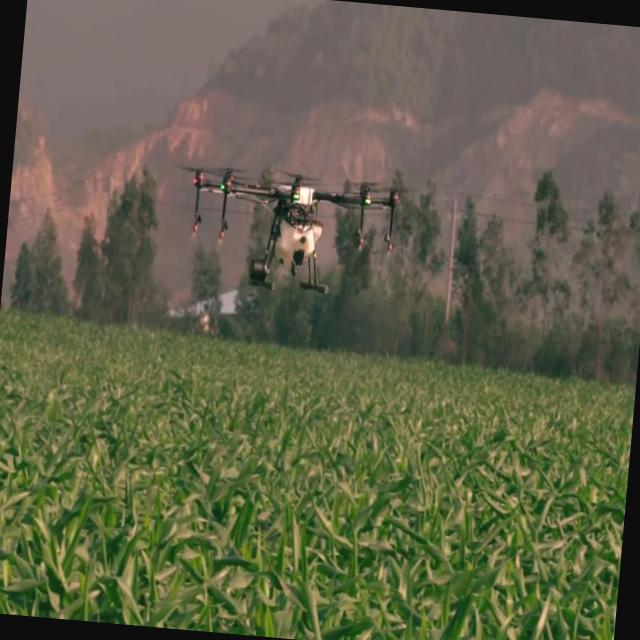drone: (170, 156, 408, 308)
